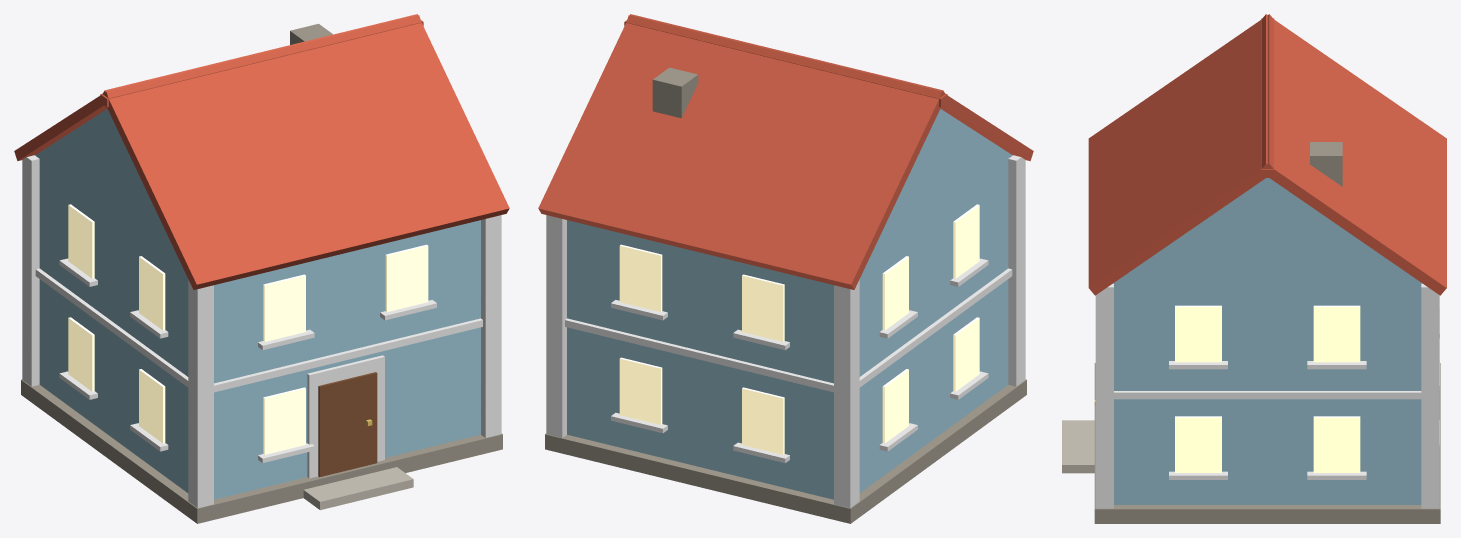
File: casa-celeste.glb
3 renders of one model, left to right at view 1: azimuth 30°, elevation 25°; view 2: azimuth 150°, elevation 25°; view 3: azimuth 270°, elevation 25°, orthographic. The views are drawn at different scales.
Parts seen in each view (by area): view 1: casa-celeste_7, casa-celeste_1, casa-celeste_2, casa-celeste_3, casa-celeste_0, casa-celeste_4, casa-celeste_6; view 2: casa-celeste_1, casa-celeste_7, casa-celeste_2, casa-celeste_3, casa-celeste_0; view 3: casa-celeste_1, casa-celeste_7, casa-celeste_2, casa-celeste_3, casa-celeste_0, casa-celeste_6.
Boxes of the visible parts, x1=… form: casa-celeste_7: x1=14, y1=14, x2=509, y2=289; casa-celeste_1: x1=35, y1=109, x2=480, y2=499; casa-celeste_2: x1=22, y1=155, x2=501, y2=507; casa-celeste_3: x1=68, y1=204, x2=428, y2=454; casa-celeste_0: x1=21, y1=23, x2=502, y2=523; casa-celeste_4: x1=318, y1=372, x2=377, y2=477; casa-celeste_6: x1=303, y1=467, x2=413, y2=510; casa-celeste_1: x1=567, y1=109, x2=1012, y2=499; casa-celeste_7: x1=538, y1=14, x2=1033, y2=289; casa-celeste_2: x1=546, y1=155, x2=1025, y2=507; casa-celeste_3: x1=619, y1=204, x2=979, y2=454; casa-celeste_0: x1=545, y1=67, x2=1026, y2=523; casa-celeste_1: x1=1113, y1=178, x2=1422, y2=504; casa-celeste_7: x1=1088, y1=14, x2=1446, y2=295; casa-celeste_2: x1=1095, y1=283, x2=1439, y2=508; casa-celeste_3: x1=1175, y1=305, x2=1360, y2=472; casa-celeste_0: x1=1094, y1=142, x2=1440, y2=523; casa-celeste_6: x1=1062, y1=420, x2=1094, y2=473.
Bounding box in the file's own units: 8.8 × 9.81 × 9.45.
